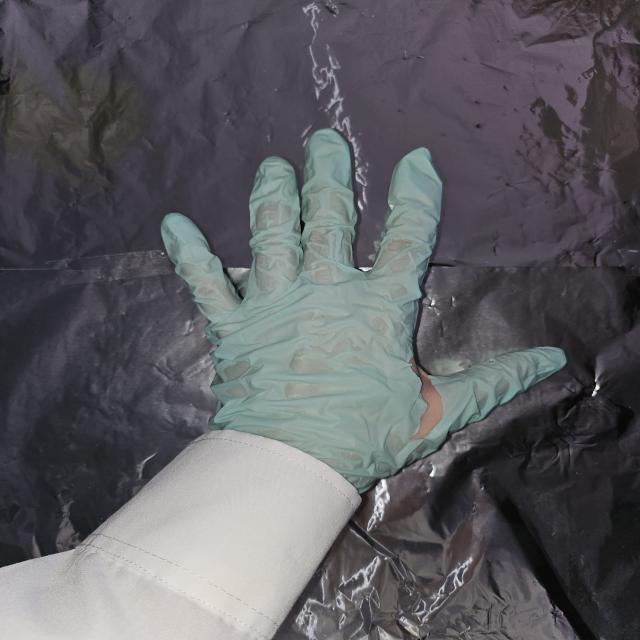gloves_damaged: (158, 125, 575, 486)
